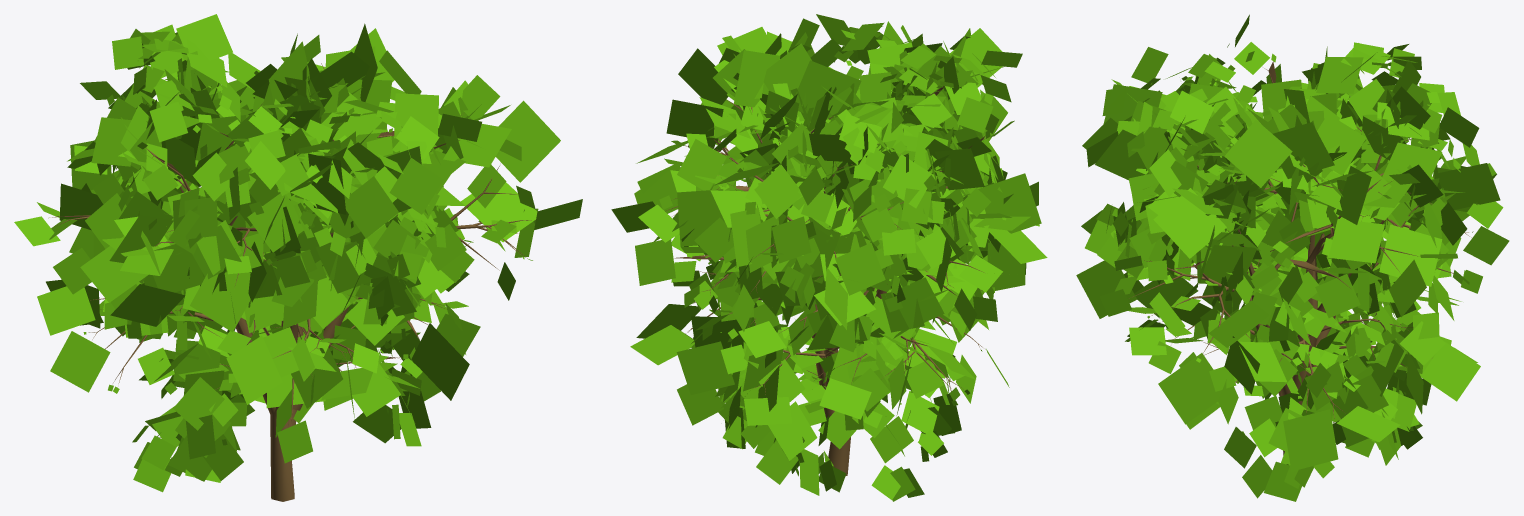
File: RainForest4.fbx
3 renders of one model, left to right at view 1: azimuth 30°, elevation 25°; view 2: azimuth 150°, elevation 25°; view 3: azimuth 270°, elevation 25°, orthographic. The views are drawn at different scales.
Parts seen in each view (by area): view 1: leaves.004, leaves.005, tree.001; view 2: leaves.004, leaves.005, tree.001; view 3: leaves.004, leaves.005, tree.001.
Part boxes in pixels (<box>): leaves.004: <box>14,23,582,463</box>; leaves.005: <box>67,14,469,492</box>; tree.001: <box>49,63,535,501</box>; leaves.004: <box>611,18,1047,427</box>; leaves.005: <box>677,14,1022,501</box>; tree.001: <box>665,86,988,475</box>; leaves.004: <box>1076,42,1509,471</box>; leaves.005: <box>1081,14,1479,501</box>; tree.001: <box>1128,61,1471,455</box>.
Size of the model in its own units: 5152 by 4781 by 4582.
Materials: 2 (1 with a texture image).
